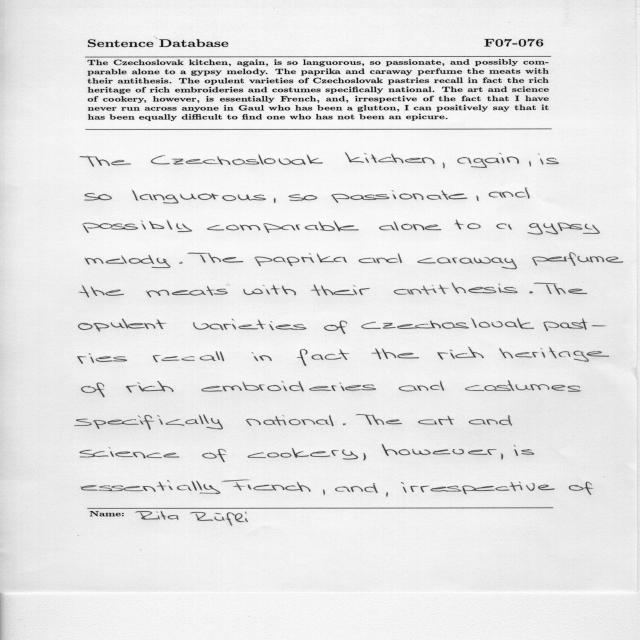word: (75, 414, 223, 430), (401, 482, 555, 495), (81, 480, 220, 494), (382, 444, 503, 460), (202, 381, 377, 392), (361, 318, 534, 329), (151, 154, 323, 165), (132, 190, 266, 204), (207, 221, 359, 233), (331, 190, 467, 203), (499, 347, 609, 362), (394, 283, 518, 295), (83, 220, 192, 233), (465, 380, 581, 392), (248, 448, 358, 460), (193, 319, 307, 330), (417, 257, 517, 269), (255, 254, 347, 267), (532, 253, 623, 266), (79, 319, 167, 332), (85, 255, 170, 268), (80, 448, 179, 459), (222, 480, 311, 492), (345, 153, 435, 164), (246, 415, 334, 426), (457, 153, 519, 168), (146, 286, 228, 297), (297, 349, 349, 366), (527, 223, 600, 235), (543, 318, 606, 331), (153, 351, 224, 362), (311, 285, 370, 296), (534, 283, 587, 295), (126, 381, 174, 393), (437, 347, 484, 359), (80, 156, 131, 167), (379, 222, 441, 231), (188, 253, 243, 263), (78, 353, 127, 364), (371, 349, 419, 360), (244, 285, 296, 295), (356, 414, 402, 425), (79, 286, 124, 297), (399, 381, 444, 392), (469, 415, 512, 426), (489, 188, 530, 199), (359, 254, 402, 264), (335, 483, 378, 493), (81, 383, 105, 397), (569, 481, 593, 495), (418, 416, 454, 425), (324, 320, 347, 334), (202, 449, 226, 462), (454, 220, 481, 229), (538, 154, 559, 165), (85, 193, 112, 201), (289, 194, 318, 201), (251, 352, 272, 361), (514, 449, 534, 456), (496, 223, 512, 230), (363, 453, 366, 461), (476, 195, 479, 201), (443, 163, 445, 169), (529, 161, 531, 167), (529, 291, 533, 294), (323, 490, 325, 496), (274, 198, 276, 203), (386, 492, 388, 497), (179, 262, 183, 264), (343, 424, 346, 426), (514, 445, 516, 447)
